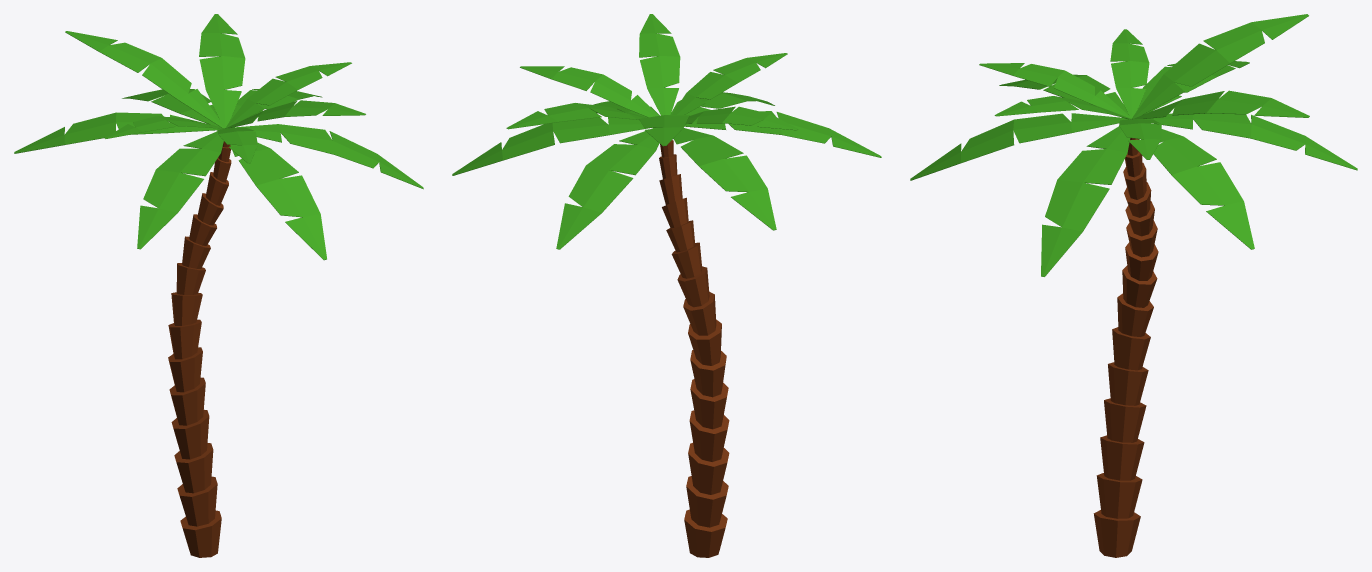
The model's file is palmtree02_überarbeitet.fbx.
3 views of the same model, side by side, from view 1: azimuth 30°, elevation 25°; view 2: azimuth 150°, elevation 25°; view 3: azimuth 270°, elevation 25° (orthographic). The views are drawn at different scales.
Visible parts, largest first — view 1: Plane.010; view 2: Plane.010; view 3: Plane.010.
Part boxes in pixels (x1,y1,x2,y2): Plane.010: (14,14,423,557); Plane.010: (452,14,881,557); Plane.010: (910,14,1357,557).
Size of the model in its own units: 1783 by 2521 by 2002.
